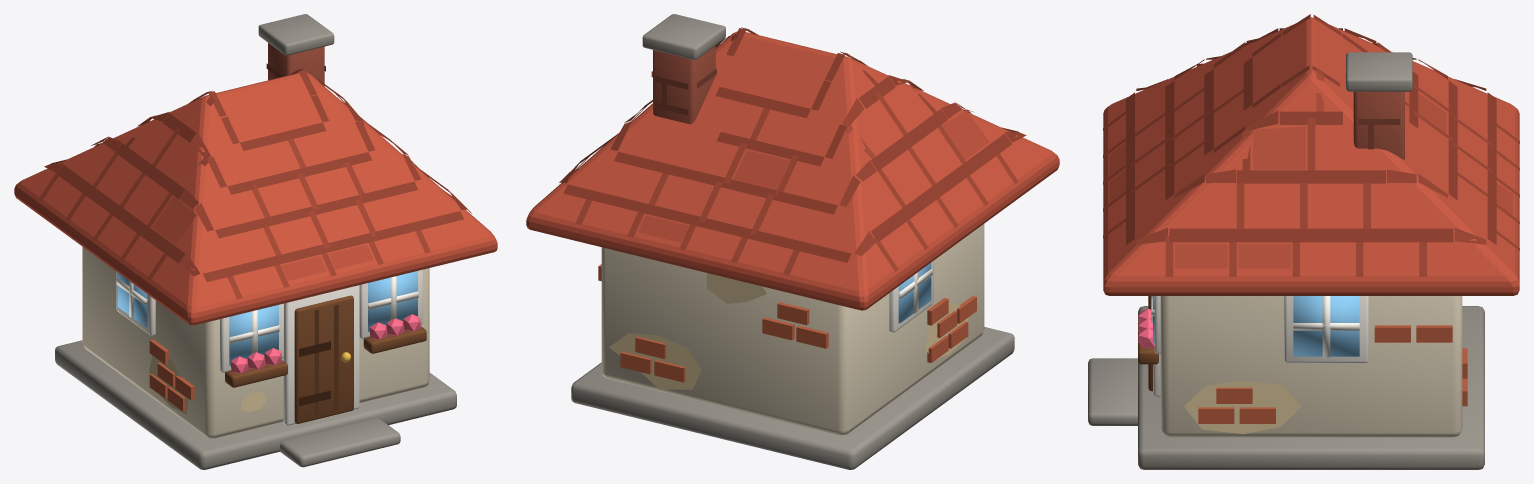
Rendered from house.glb.
3 renders of one model, left to right at view 1: azimuth 30°, elevation 25°; view 2: azimuth 150°, elevation 25°; view 3: azimuth 270°, elevation 25°, orthographic. The views are drawn at different scales.
Parts seen in each view (by area): view 1: House; view 2: House; view 3: House.
Boxes of the visible parts, x1,y1,x2,y2 form: House: [14, 14, 497, 469]; House: [526, 14, 1059, 469]; House: [1088, 14, 1519, 469].
Size of the model in its own units: 2.77 by 2.73 by 2.86.
